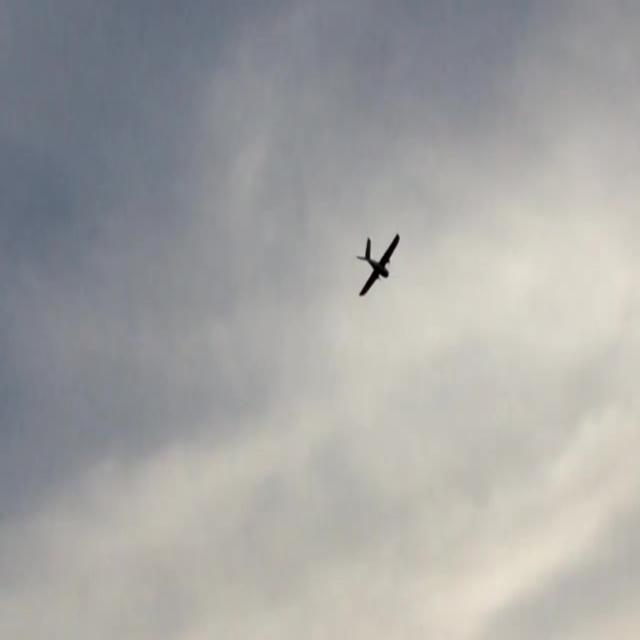iha: (355, 255, 400, 260)
